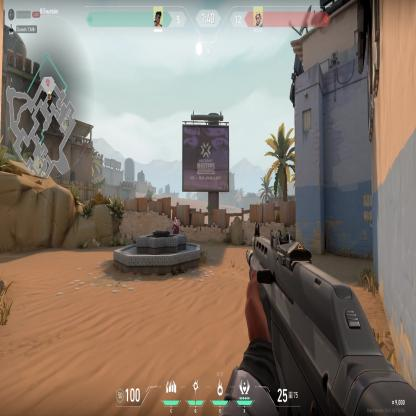enemy: (172, 216, 179, 234)
